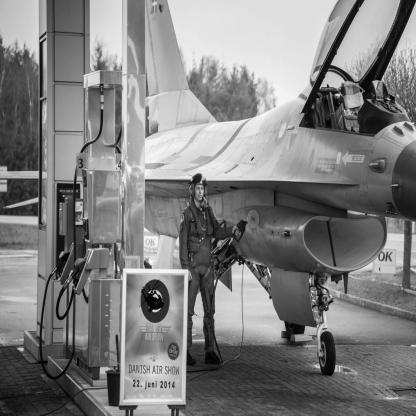F16: (1, 1, 416, 377)
